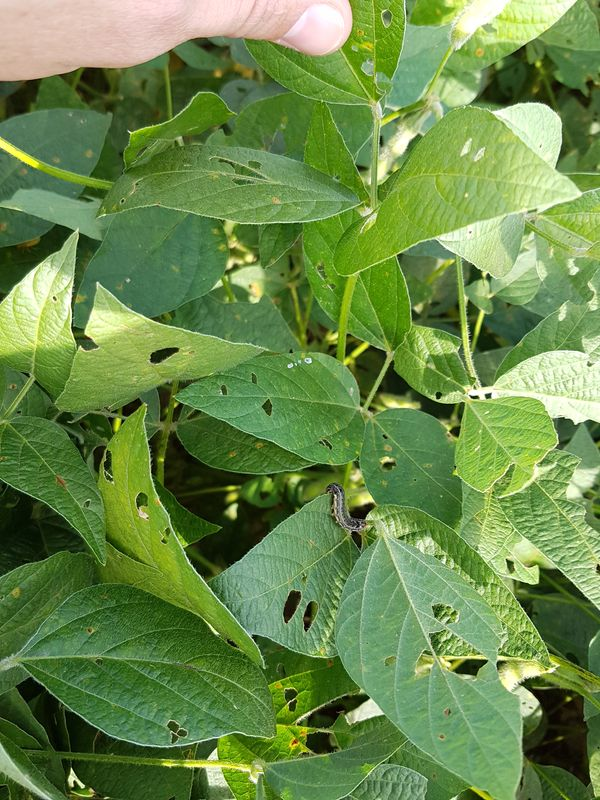Spodoptera_albula: (315, 477, 375, 539)
